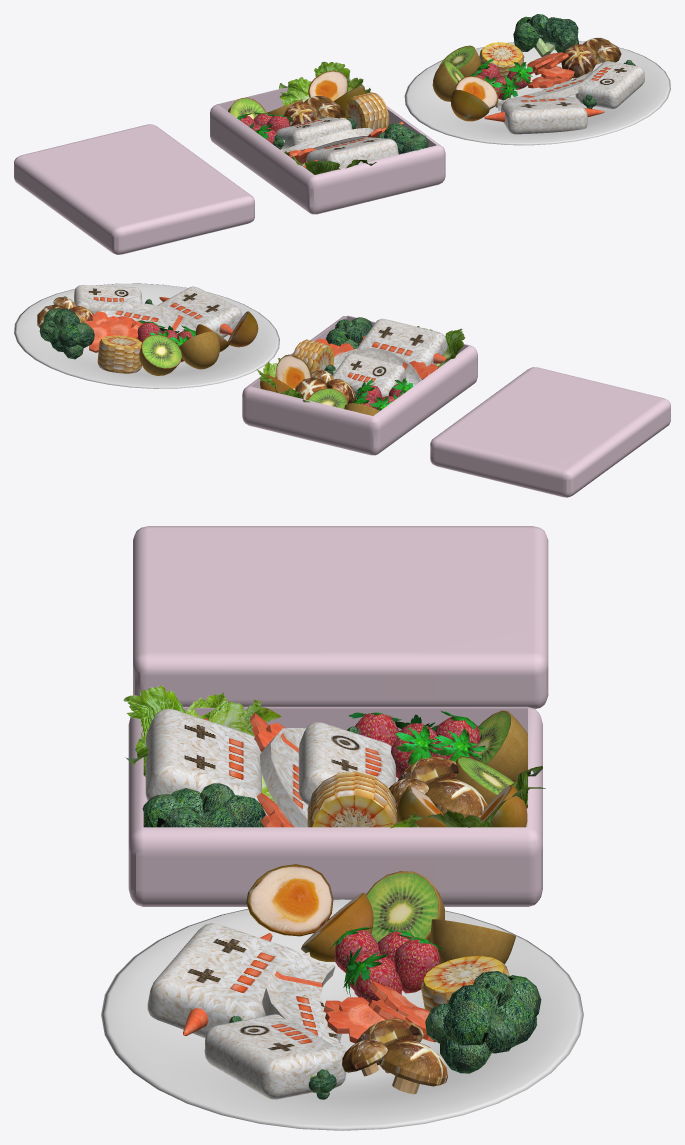
File: Firstlevel.fbx
3 views of the same model, one above another, from view 1: azimuth 30°, elevation 25°; view 2: azimuth 150°, elevation 25°; view 3: azimuth 270°, elevation 25° (orthographic). The views are drawn at different scales.
Visible parts, largest first — view 1: pCube3, pCube2, pCylinder10, polySurface31, polySurface32, polySurface33, polySurface1, polySurface39, polySurface37, polySurface38, polySurface20, polySurface36 (+13 smaller); view 2: pCube3, pCube2, pCylinder10, polySurface1, polySurface37, polySurface31, polySurface20, polySurface33, polySurface32, pCylinder11, pPlane2, polySurface30 (+12 smaller); view 3: pCube3, pCube2, pCylinder10, polySurface31, polySurface32, polySurface1, polySurface33, polySurface39, polySurface37, polySurface36, polySurface38, polySurface20 (+13 smaller).
Boxes of the visible parts, <box> form: pCube3: <box>14,124,254,254</box>; pCube2: <box>210,78,445,214</box>; pCylinder10: <box>404,41,670,145</box>; polySurface31: <box>484,97,604,134</box>; polySurface32: <box>575,60,644,109</box>; polySurface33: <box>513,14,578,56</box>; polySurface1: <box>303,137,398,168</box>; polySurface39: <box>451,76,498,121</box>; polySurface37: <box>432,45,480,101</box>; polySurface38: <box>561,37,621,78</box>; polySurface20: <box>273,117,356,149</box>; polySurface36: <box>471,58,532,100</box>; pCube3: <box>430,367,670,497</box>; pCube2: <box>242,315,477,455</box>; pCylinder10: <box>14,283,279,388</box>; polySurface1: <box>357,318,447,366</box>; polySurface37: <box>139,331,219,375</box>; polySurface31: <box>157,286,242,337</box>; polySurface20: <box>324,353,406,399</box>; polySurface33: <box>39,308,94,359</box>; polySurface32: <box>64,285,153,313</box>; pCylinder11: <box>97,335,141,373</box>; pPlane2: <box>94,303,195,333</box>; polySurface30: <box>260,354,311,393</box>; pCube3: <box>133,526,548,708</box>; pCube2: <box>128,706,542,906</box>; pCylinder10: <box>101,899,583,1130</box>; polySurface31: <box>147,923,301,1037</box>; polySurface32: <box>204,1014,346,1099</box>; polySurface1: <box>145,708,261,802</box>; polySurface33: <box>425,971,541,1073</box>; polySurface39: <box>246,864,373,961</box>; polySurface37: <box>366,871,515,964</box>; polySurface36: <box>330,926,446,1002</box>; polySurface38: <box>342,1018,447,1094</box>; polySurface20: <box>298,722,395,805</box>.
Bounding box in the file's own units: 50.87 × 4.85 × 17.92.
